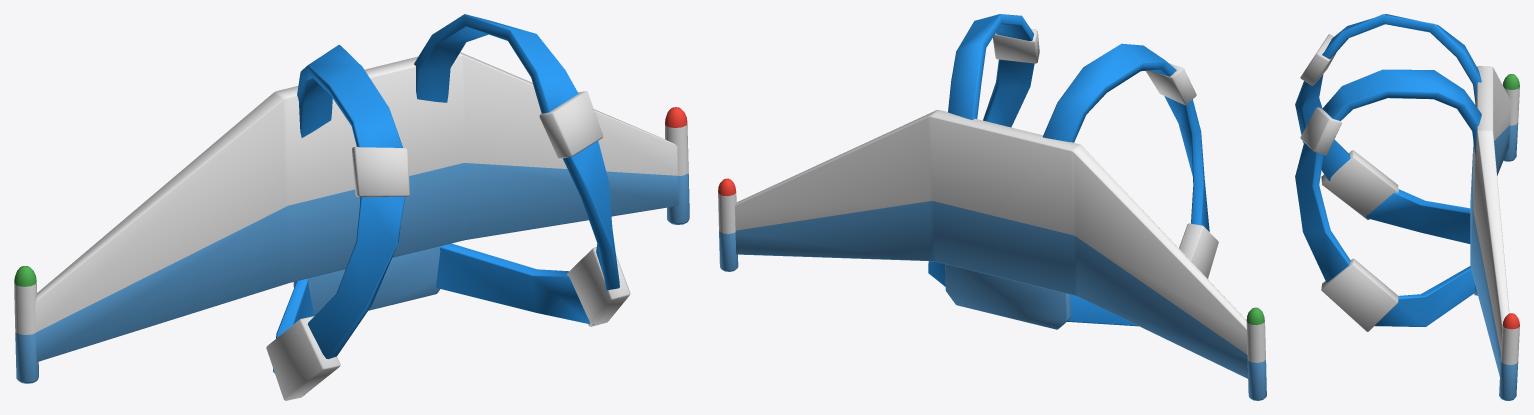
Rendered from Backpack_014.glb.
3 renders of one model, left to right at view 1: azimuth 30°, elevation 25°; view 2: azimuth 150°, elevation 25°; view 3: azimuth 270°, elevation 25°, orthographic. The views are drawn at different scales.
Visible parts, largest first — view 1: Backpack_014; view 2: Backpack_014; view 3: Backpack_014.
Part boxes in pixels (box(x1,y1,x2,y2)): Backpack_014: box(14, 14, 689, 400); Backpack_014: box(718, 14, 1266, 400); Backpack_014: box(1295, 14, 1519, 400).
Bounding box in the file's own units: 0.9949 × 0.4464 × 0.3837.
1 material, 1 textured.
